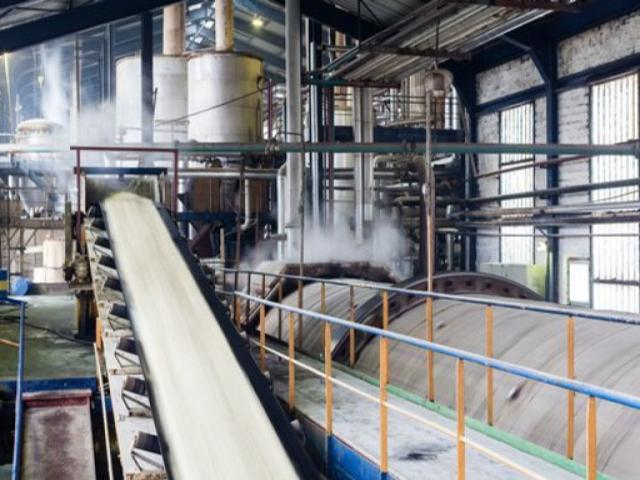conveyor: (80, 182, 334, 480)
